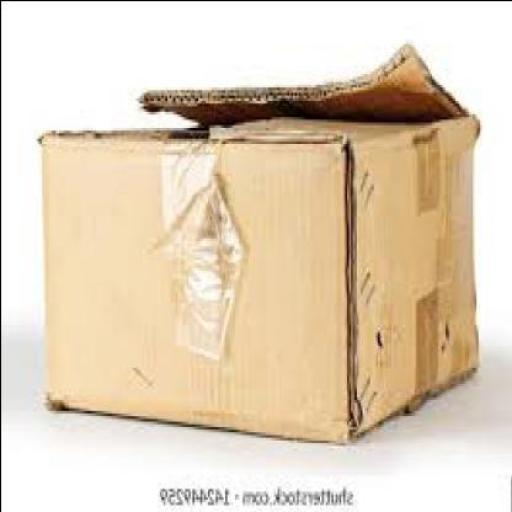cardboard: (38, 38, 481, 436)
